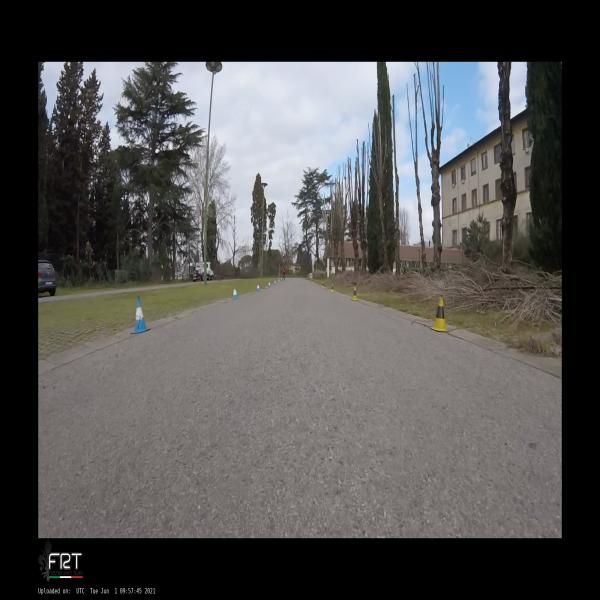blue_cone: (130, 296, 151, 334), (232, 287, 239, 300), (257, 284, 260, 290), (268, 282, 270, 286)
yellow_cone: (430, 295, 449, 332), (351, 287, 359, 300), (330, 284, 334, 292), (321, 282, 324, 288), (315, 280, 318, 284)
